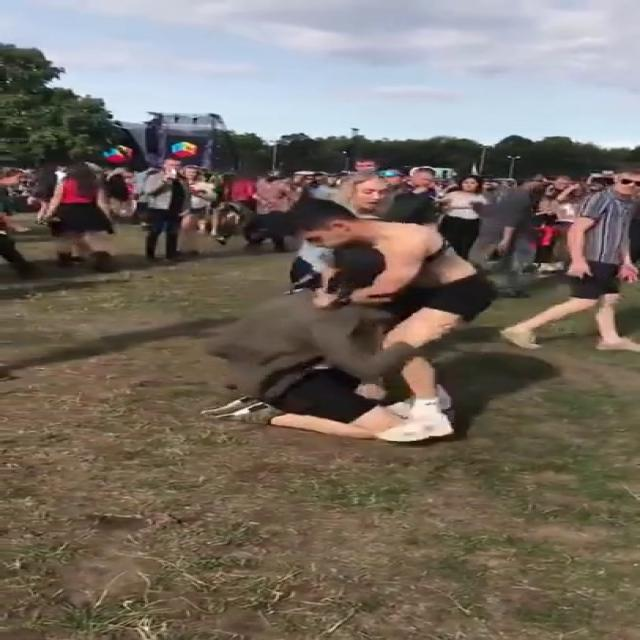Violence: (206, 199, 497, 446)
